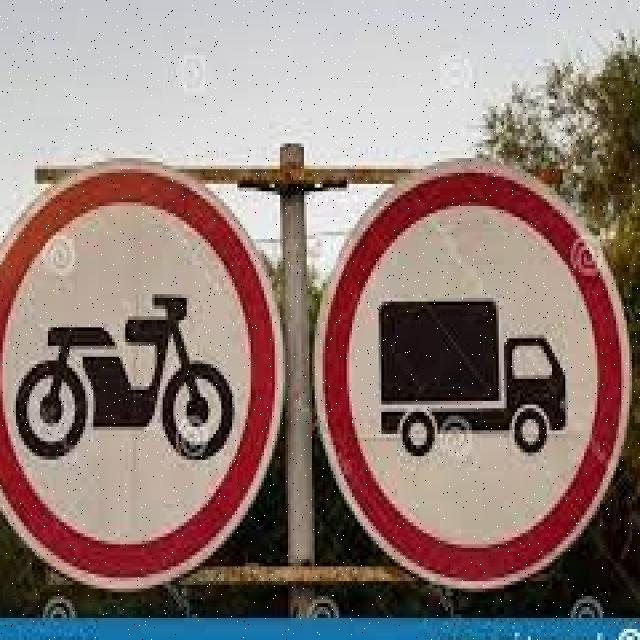do_not_enter: (315, 150, 640, 588)
